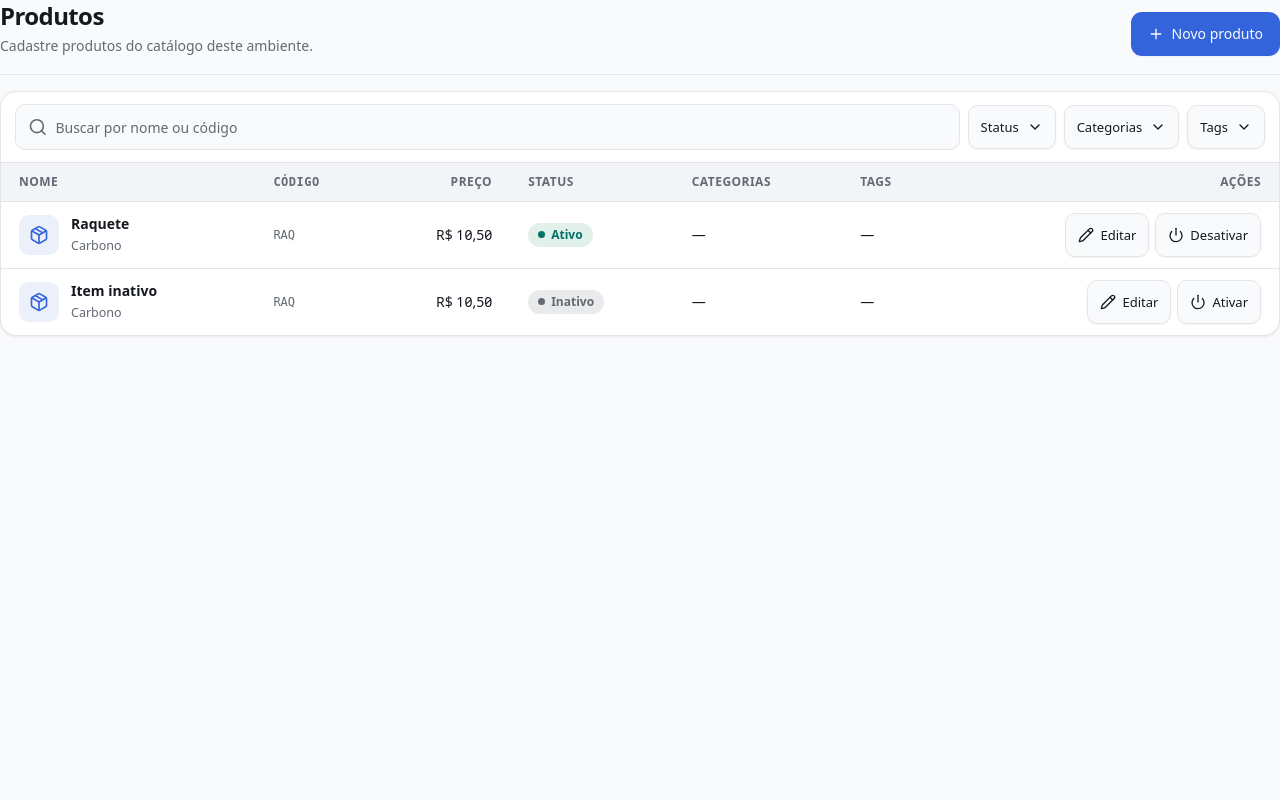
CatalogProductsPage validity gate › filters active products separately from inactive products in the toolbar
Expected: the text "Item inativo" is shown, [71,280,157,300]
Step 1. Click the button "Status" → {"x": 1012, "y": 127}, box [968,105,1056,149]
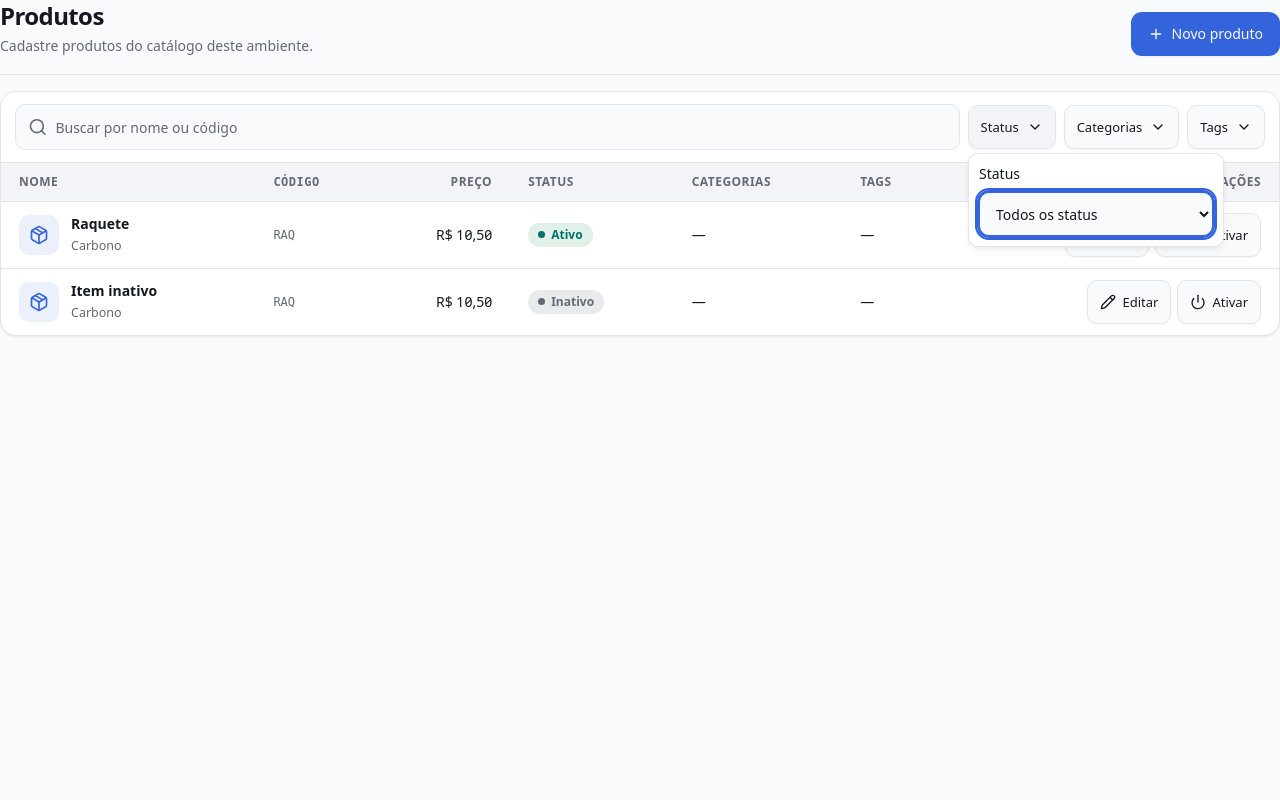
Step 2. Select "Ativo" in the dropdown labelled "Status" → {"x": 1096, "y": 214}, box [979,192,1213,236]
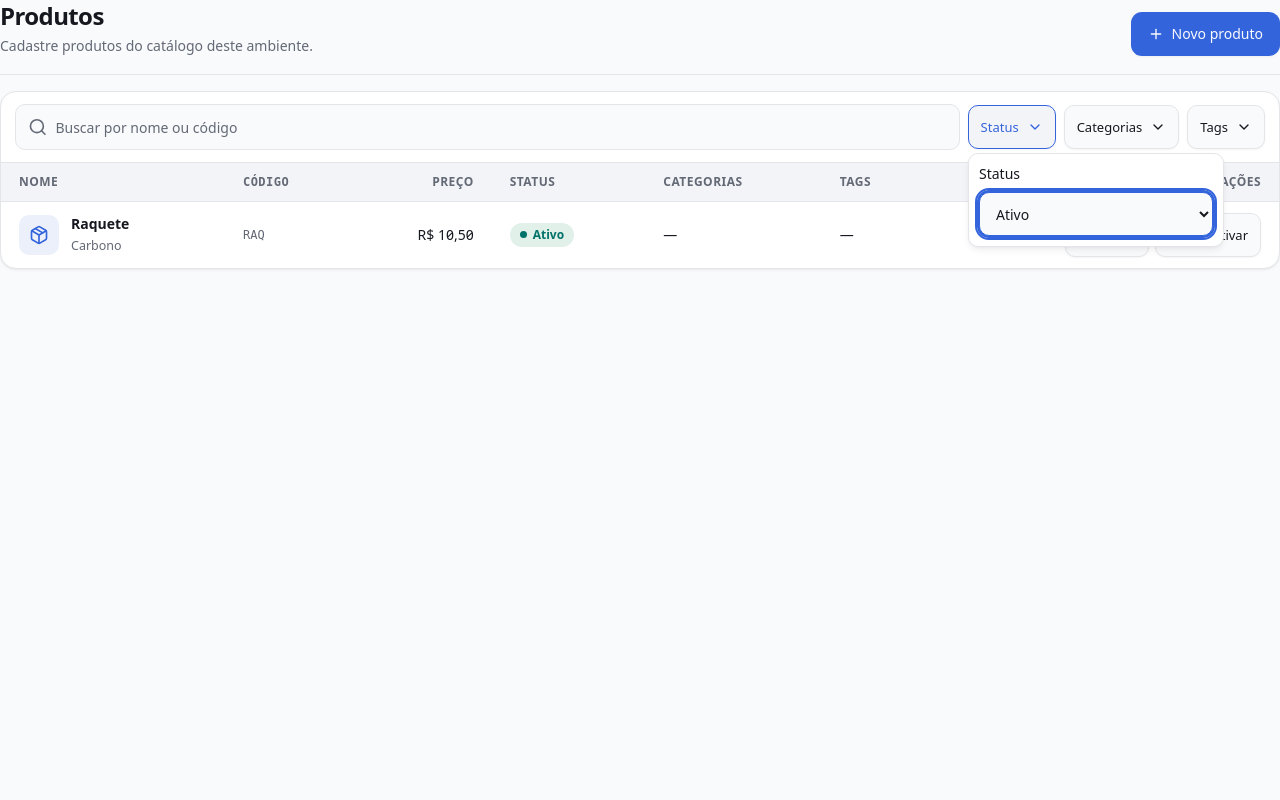
Expected: the text "Raquete" is shown, [71,214,129,234]
Expected: the button "Item inativo" is gone
